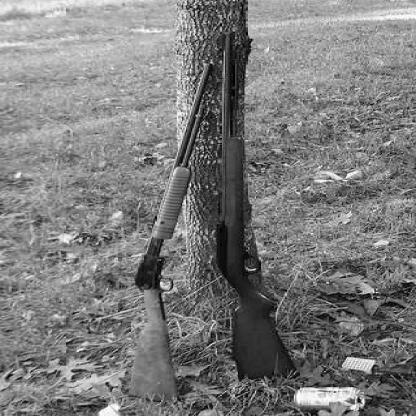rifle: (116, 52, 222, 403), (212, 18, 287, 403)
